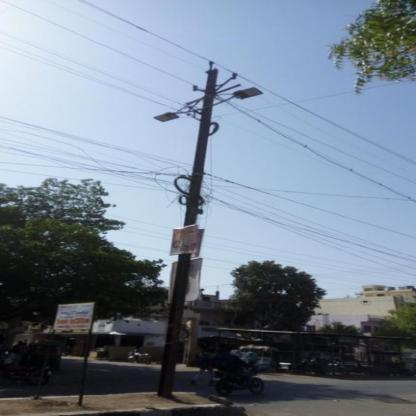Electrical Pole: (114, 57, 271, 393)
